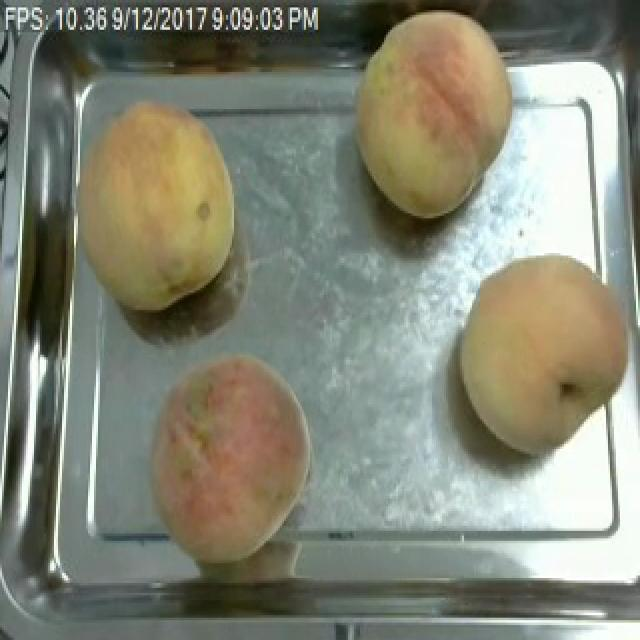Fruit: (68, 85, 246, 322), (450, 243, 640, 464), (140, 345, 320, 573), (342, 2, 524, 226)
